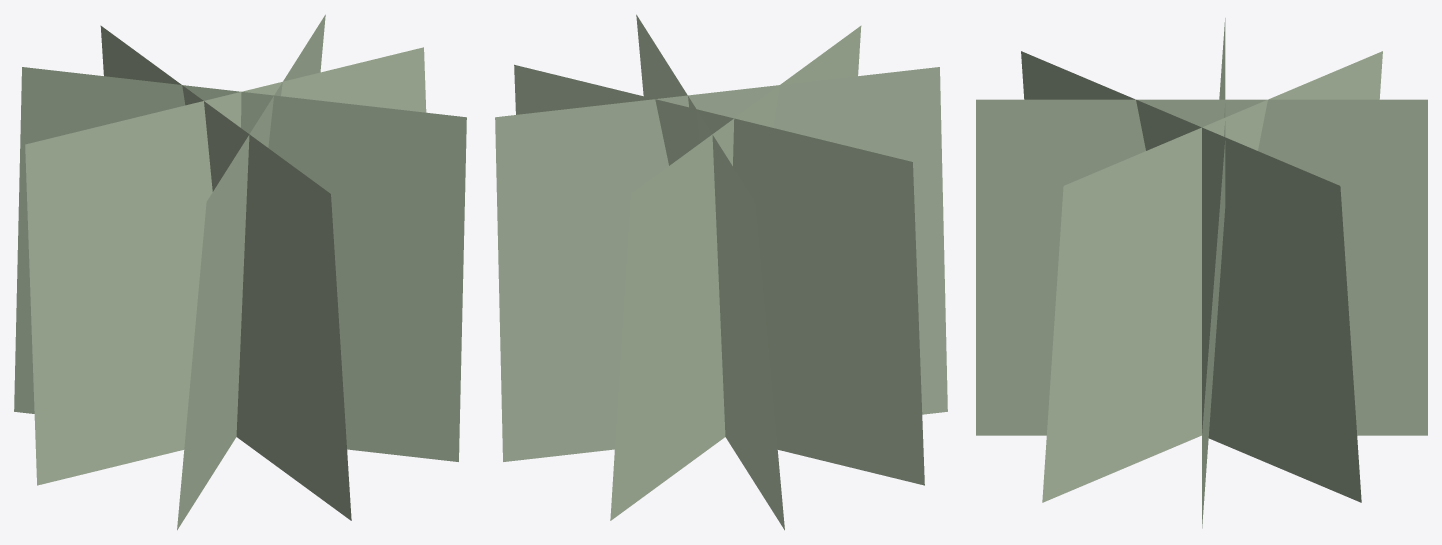
Rendered from grass-tuft-green-v1.glb.
The picture shows the model from 3 angles, left to right: view 1: azimuth 30°, elevation 25°; view 2: azimuth 150°, elevation 25°; view 3: azimuth 270°, elevation 25°; orthographic projection.
Visible parts, largest first — view 1: grass-tuft-green-v1.lod0; view 2: grass-tuft-green-v1.lod0; view 3: grass-tuft-green-v1.lod0.
Part boxes in pixels (<box>): grass-tuft-green-v1.lod0: <box>14,14,466,530</box>; grass-tuft-green-v1.lod0: <box>495,14,947,530</box>; grass-tuft-green-v1.lod0: <box>976,18,1427,528</box>.
Bounding box in the file's own units: 2.7 × 2.15 × 2.7.
